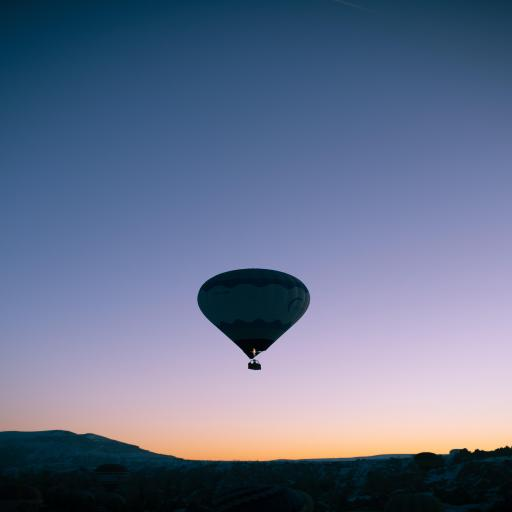hot air ballon: (196, 264, 313, 372)
